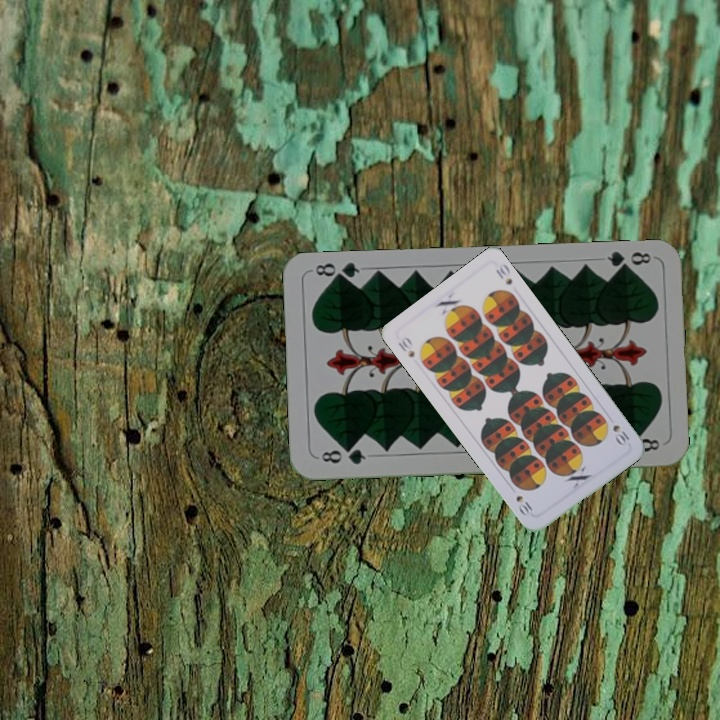G8: (603, 247, 654, 275), (317, 443, 368, 467)
S10: (609, 420, 632, 449), (394, 333, 417, 360)
